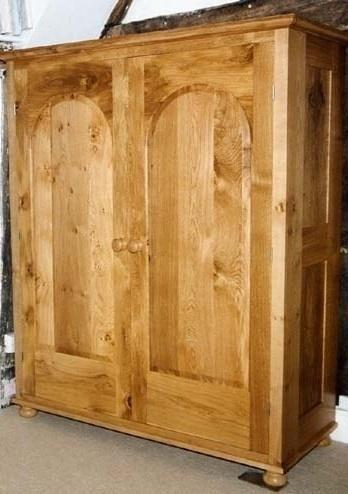Armario: (3, 14, 344, 491)
